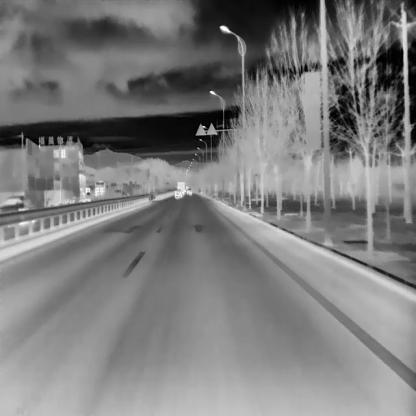car: (0, 192, 38, 213), (173, 188, 182, 198), (187, 187, 191, 194)
truck: (176, 180, 185, 196)
